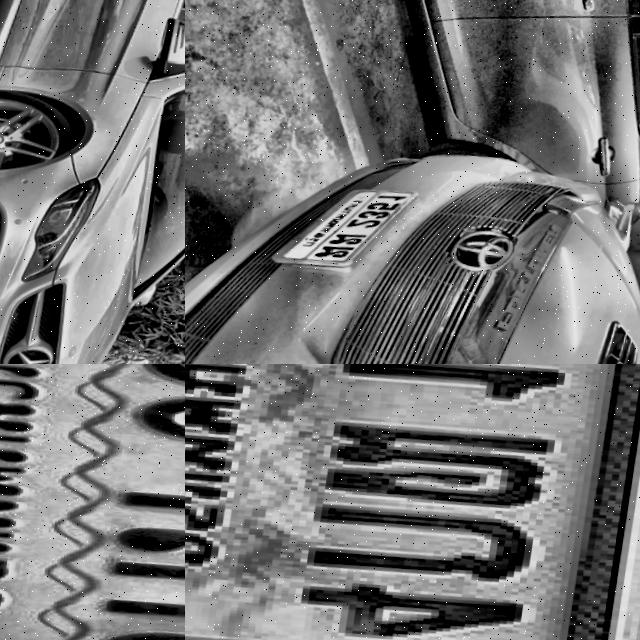license-plate: (185, 364, 640, 640), (0, 364, 185, 640), (267, 176, 421, 283)
